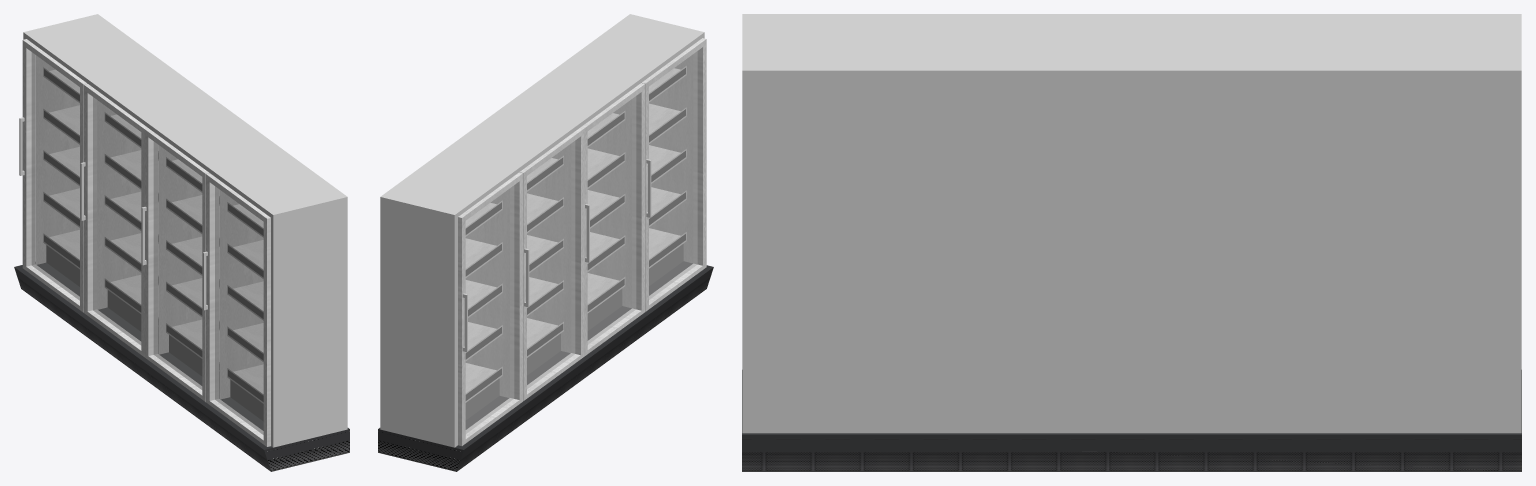
The model's file is UprightRefrigerator.glb.
3 renders of one model, left to right at view 1: azimuth 30°, elevation 25°; view 2: azimuth 150°, elevation 25°; view 3: azimuth 270°, elevation 25°, orthographic. The views are drawn at different scales.
Parts seen in each view (by area): view 1: Cube.6326; view 2: Cube.6326; view 3: Cube.6326.
Boxes of the visible parts, <box> form: Cube.6326: <box>14,14,349,471</box>; Cube.6326: <box>378,14,713,471</box>; Cube.6326: <box>742,14,1521,471</box>.
Size of the model in its own units: 0.8746 by 2.5 by 4.42.
Materials: 6 (2 with a texture image).
